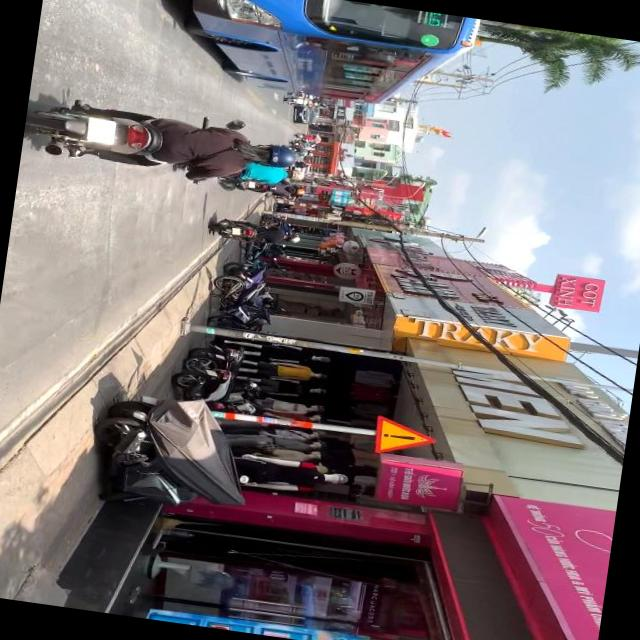W-233: (376, 415, 438, 459)
